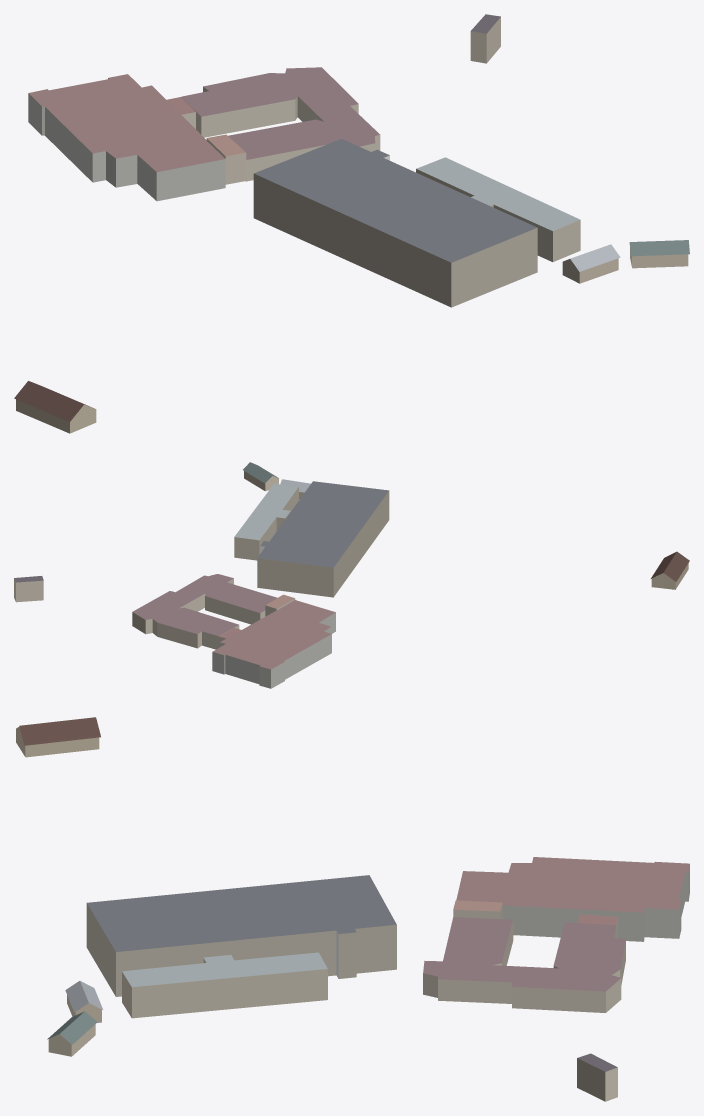
3 views of the same model, one above another, from view 1: azimuth 30°, elevation 25°; view 2: azimuth 150°, elevation 25°; view 3: azimuth 270°, elevation 25° (orthographic). The views are drawn at different scales.
Parts seen in each view (by area): view 1: tuile; view 2: tuile; view 3: tuile.
Boxes of the visible parts, x1,y1,x2,y2 form: tuile: (14,14,689,433); tuile: (14,462,689,688); tuile: (16,717,689,1101).
Size of the model in its own units: 201 by 12.82 by 158.
